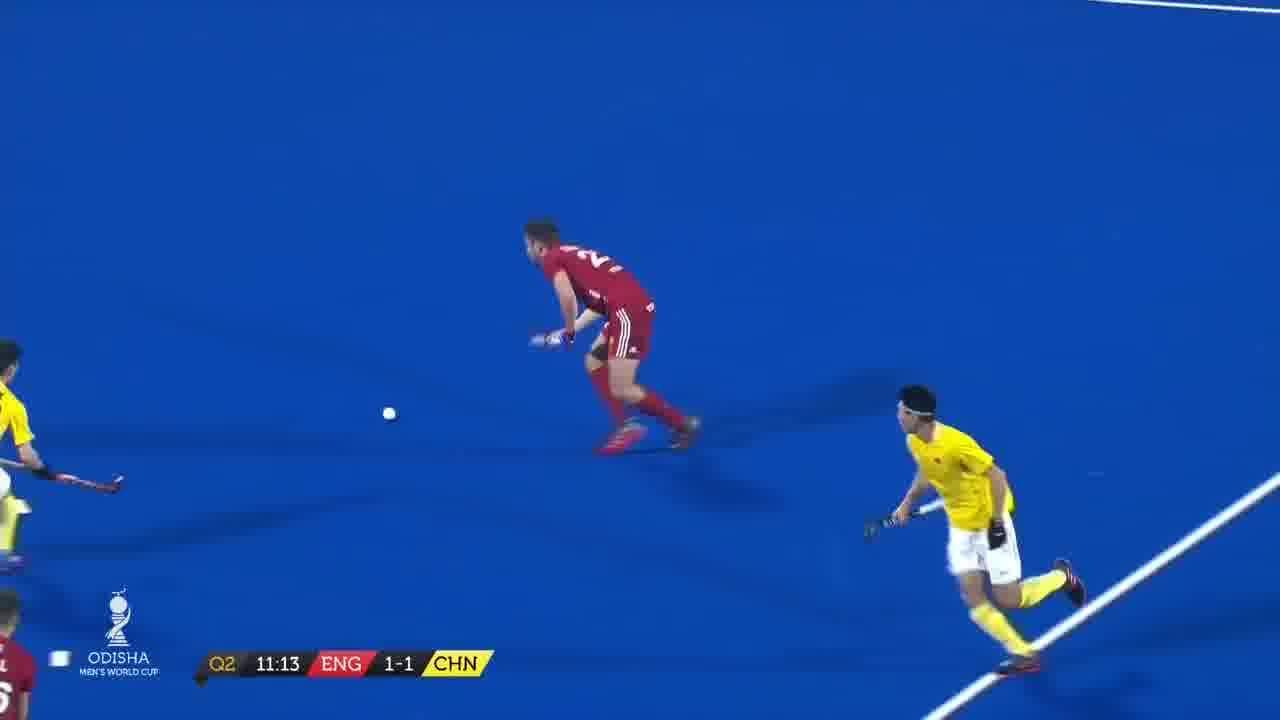ball: (380, 403, 400, 426)
